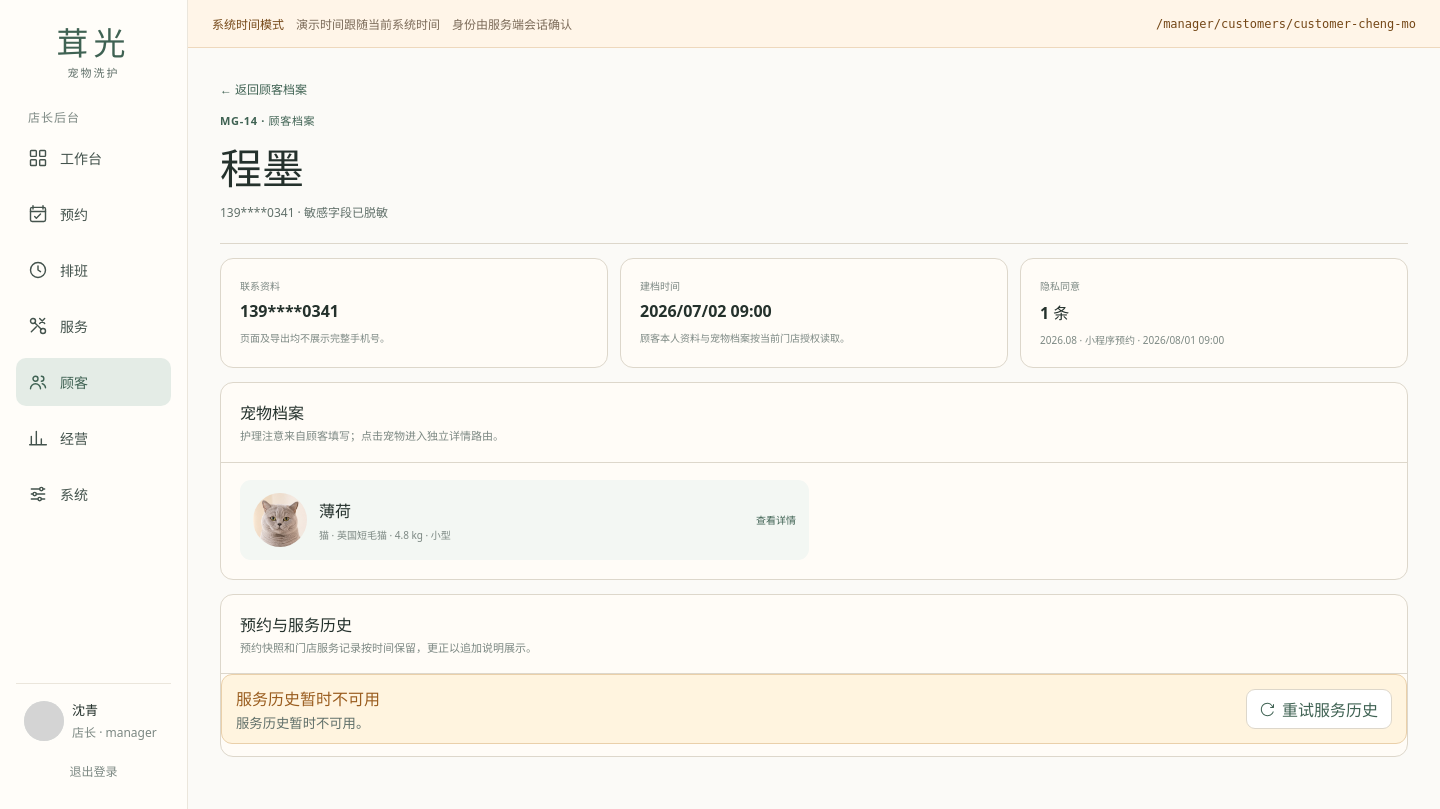
MG-14 顾客与宠物档案和数据导出页面 › 顾客详情独立恢复本人和宠物档案，服务历史失败时保留已加载内容并可重试
The width and height of the screenshot is (1440, 809).
Expected: the heading "程墨" is shown, [220, 139, 304, 196]
Expected: the text "139****0341" is shown, [240, 300, 339, 322]
Click the button "重试服务历史" at (1319, 709), box [1246, 689, 1392, 729]
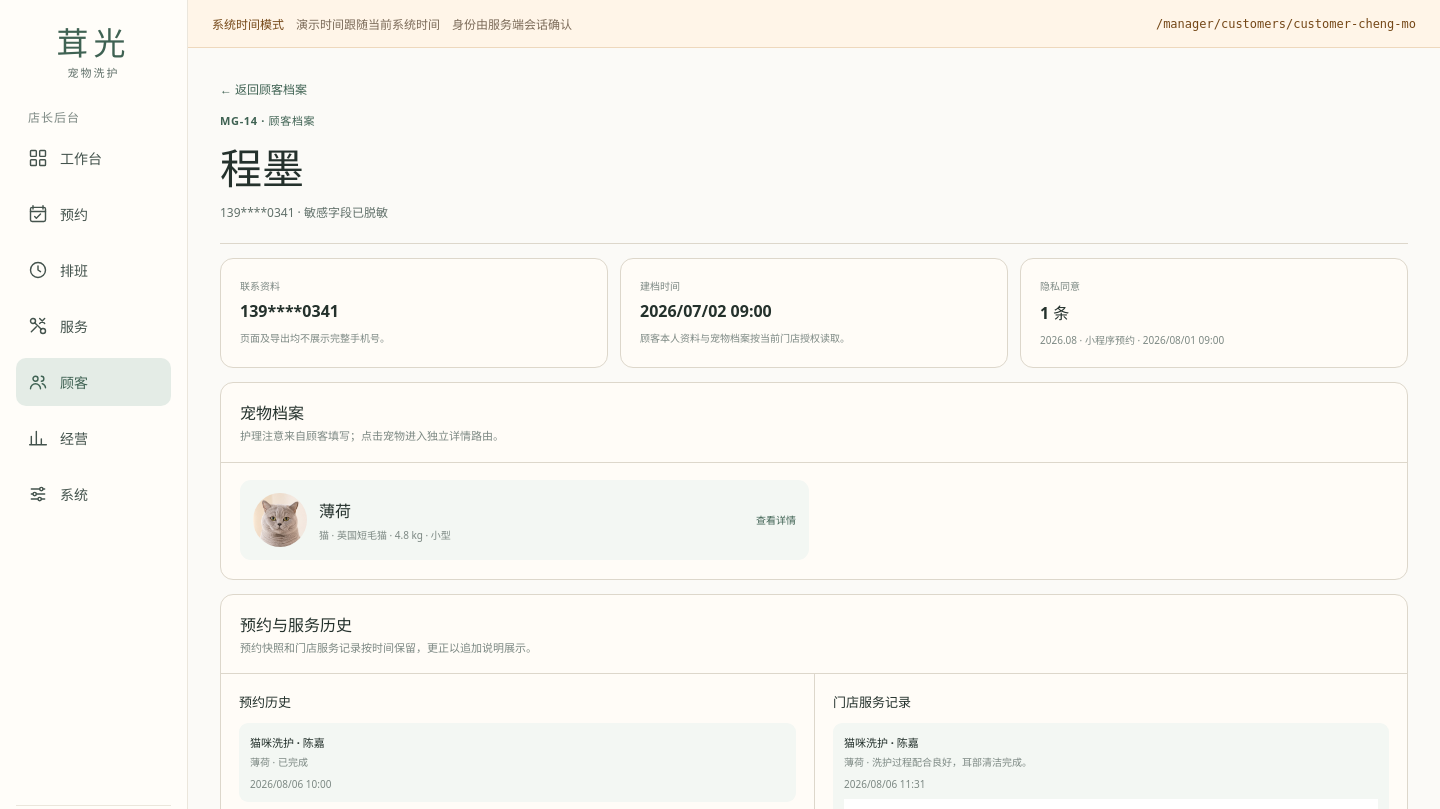
Expected: the text "猫咪洗护 · 陈嘉" is shown 2 times, [250, 735, 325, 750]; [844, 735, 919, 750]
